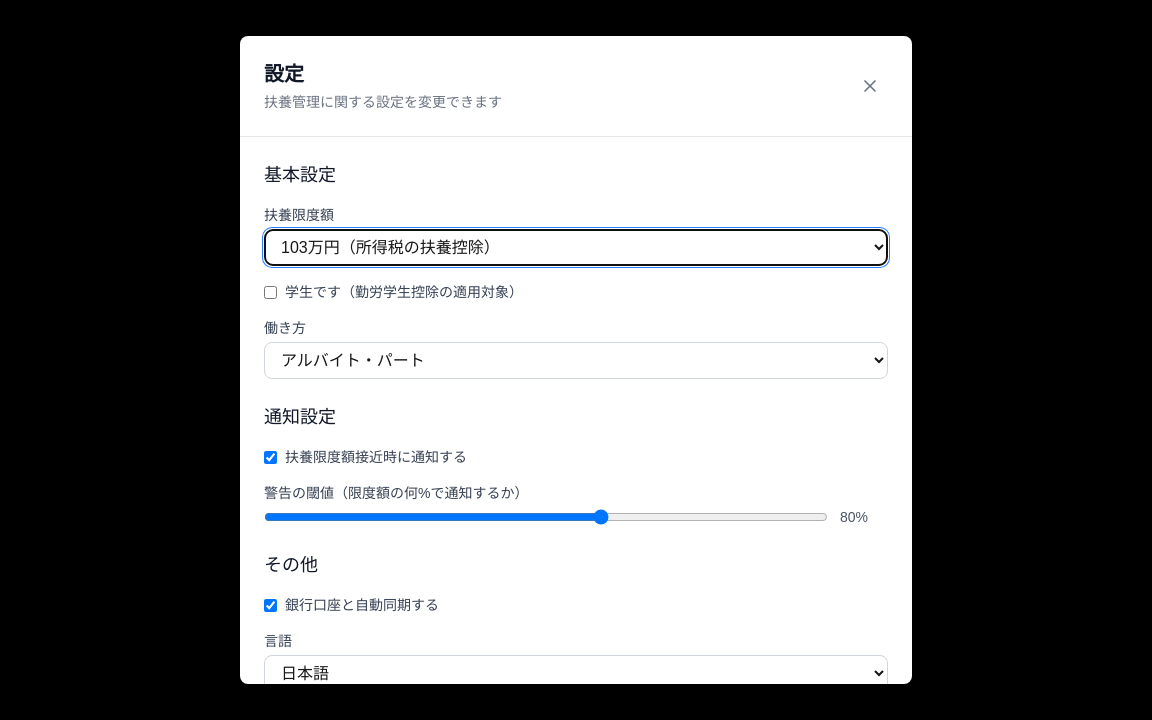
it: SettingsModal › 保存時にエラーが発生した場合エラーメッセージが表示される
Select "130万円（社会保険の扶養・一般）" in the dropdown labelled "扶養限度額" at [576, 248], box [264,229,888,266]
(page scrolled)
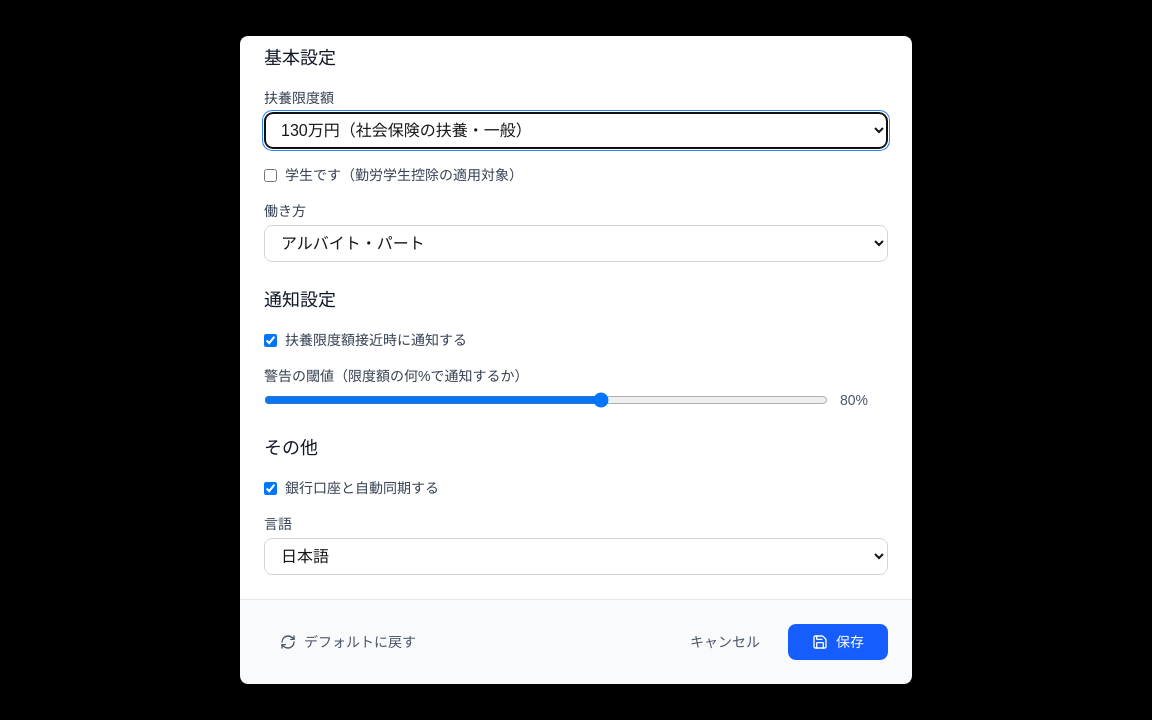
Click the button "保存".
click(838, 642)  # box [788,624,888,660]
(page scrolled)
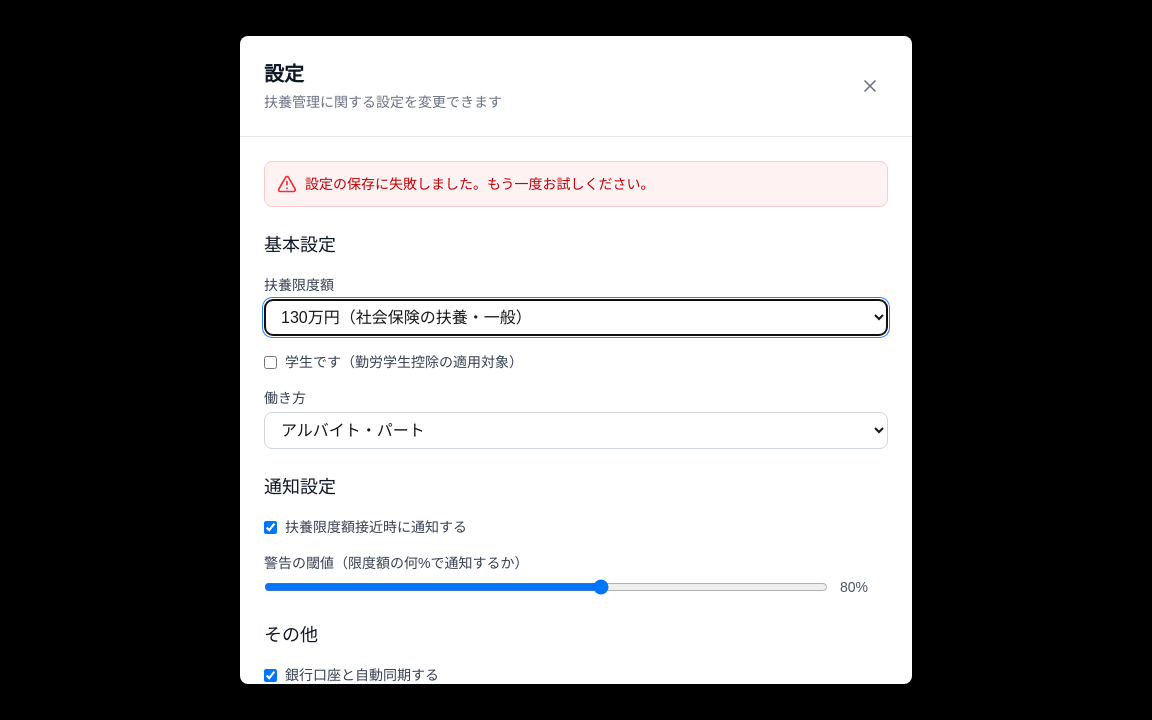
Check: the text "設定の保存に失敗しました。もう一度お試しください。" is shown, box [305,174,655,194]
